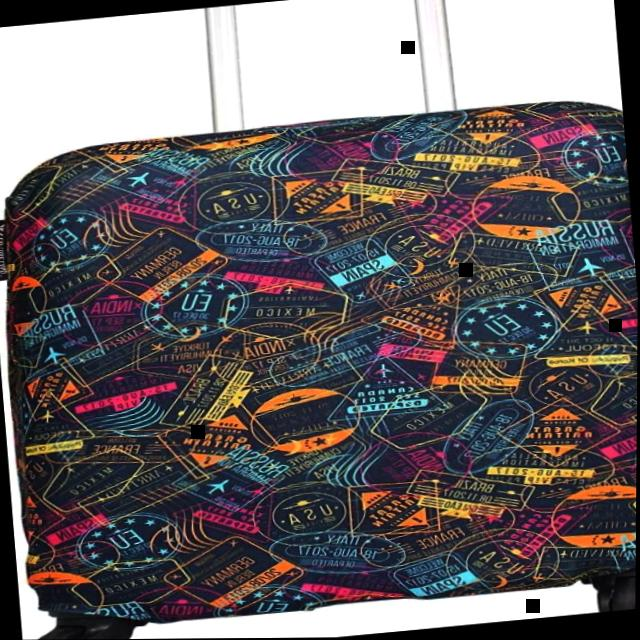luggage: (0, 84, 639, 640)
